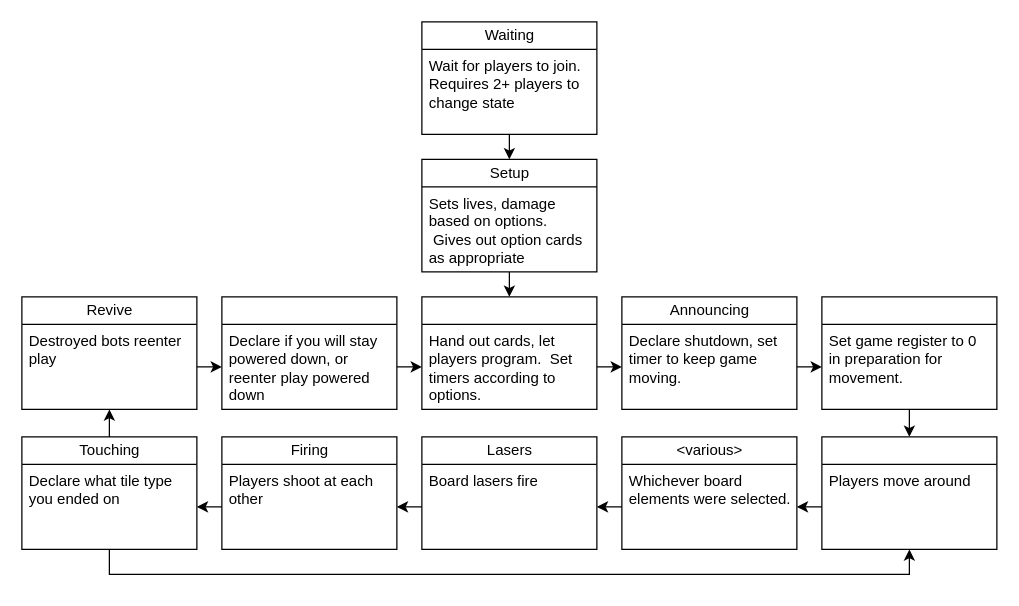
Image size: 1019x606. Some labels were removed from this diagram. Here are the shapes that lost their labels. From the top down, the box of each, then its label:
(221, 296, 397, 409): PowerDown
(421, 296, 597, 409): Programming
(821, 296, 997, 409): Executing
(821, 436, 997, 549): Movement
